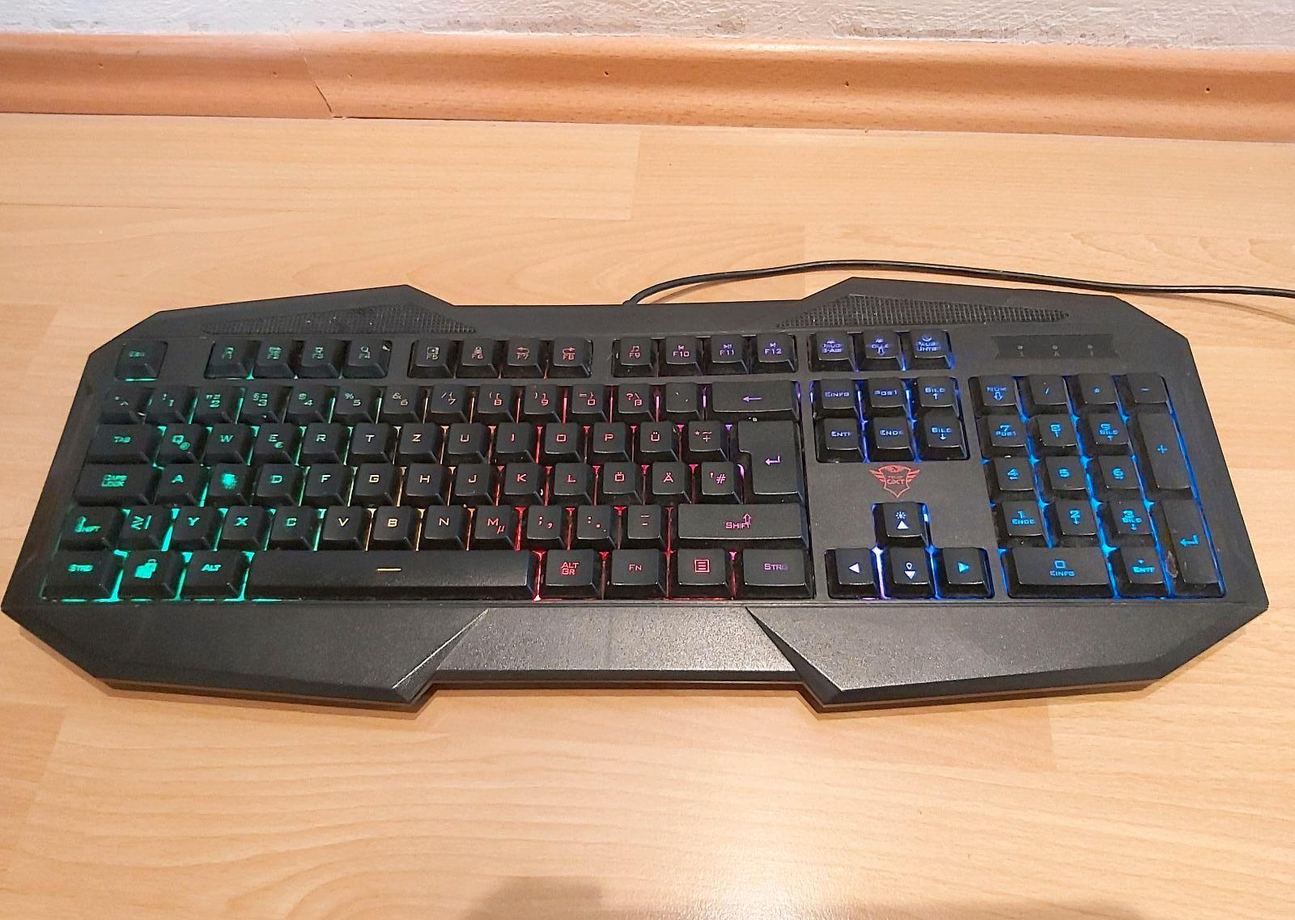0: (567, 379, 602, 411)
1: (142, 380, 185, 418)
2: (189, 379, 229, 418)
3: (236, 378, 277, 418)
4: (283, 378, 322, 413)
5: (330, 378, 368, 413)
6: (378, 379, 414, 412)
7: (427, 378, 462, 410)
8: (473, 378, 508, 411)
9: (520, 379, 555, 412)
a: (152, 461, 199, 498)
accent: (660, 378, 694, 409)
ae: (647, 457, 684, 492)
alt-left: (176, 545, 238, 594)
altgr-right: (540, 545, 593, 584)
b: (367, 501, 410, 539)
c: (265, 502, 308, 540)
caret: (99, 383, 135, 417)
comma: (522, 500, 558, 536)
d: (252, 460, 295, 496)
del: (706, 375, 790, 410)
e: (249, 418, 292, 456)
enter: (732, 413, 798, 493)
f: (301, 460, 342, 495)
g: (350, 460, 390, 494)
h: (401, 460, 440, 494)
hash: (697, 457, 733, 493)
i: (493, 418, 529, 449)
j: (451, 459, 487, 493)
k: (499, 459, 538, 491)
keyboard: (14, 295, 1251, 620)
l: (550, 458, 584, 493)
less: (114, 502, 162, 545)
m: (469, 501, 510, 537)
minus: (623, 501, 659, 536)
n: (420, 500, 461, 537)
o: (540, 418, 576, 451)
oe: (598, 458, 635, 492)
p: (588, 418, 624, 451)
plus: (684, 416, 720, 449)
point: (572, 501, 609, 536)
q: (152, 418, 199, 458)
r: (298, 418, 339, 454)
s: (205, 460, 245, 497)
shift-left: (54, 502, 114, 545)
shift-lock: (70, 460, 151, 501)
shift-right: (673, 498, 800, 536)
space: (240, 545, 532, 593)
ss: (613, 379, 648, 411)
strg-left: (47, 549, 112, 596)
strg-right: (737, 542, 805, 584)
t: (346, 418, 385, 452)
tab: (83, 420, 148, 457)
u: (444, 418, 481, 452)
ue: (635, 418, 670, 450)
v: (318, 502, 360, 538)
w: (202, 419, 244, 455)
x: (216, 501, 260, 540)
y: (167, 502, 212, 541)
z: (395, 418, 433, 452)
